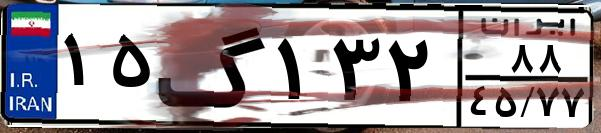1: (270, 28, 330, 110), (57, 26, 110, 100)
2: (385, 28, 445, 110)
3: (330, 28, 385, 110)
4: (470, 70, 495, 125)
5: (110, 28, 156, 98), (495, 70, 520, 125)
7: (560, 70, 590, 125), (535, 70, 560, 125)
8: (537, 27, 568, 80), (508, 27, 537, 80)
گ: (156, 12, 270, 120)
